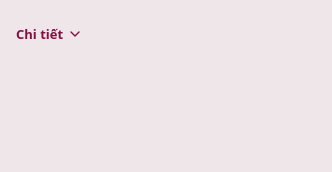
Test: Disclosure › vùng chạm tối thiểu 44 px và mũi tên xoay khi mở
Click the button "Chi tiết" at (50, 34), box [12,12,87,56]
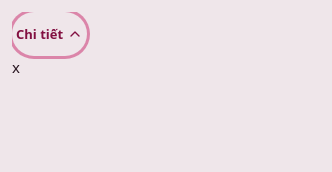
Now the icon has class "rotate-180", box [67,26,83,42]
